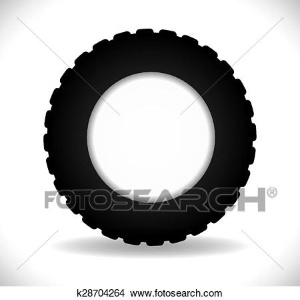tire: (37, 27, 255, 250)
